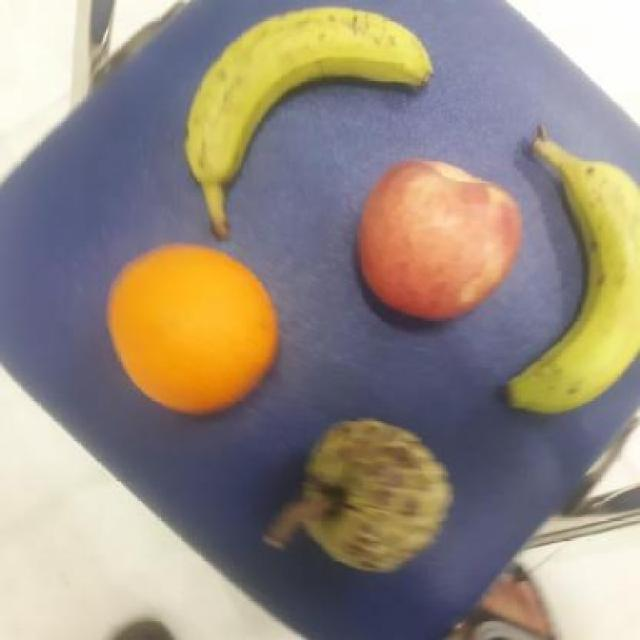apple: (355, 154, 530, 331)
banana: (165, 2, 440, 187), (500, 133, 640, 409)
oren: (100, 243, 277, 420)
